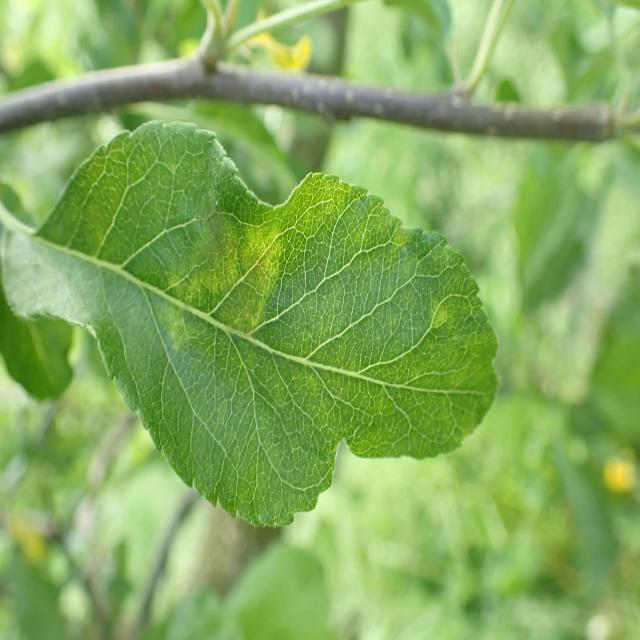scab: (101, 166, 379, 397)
